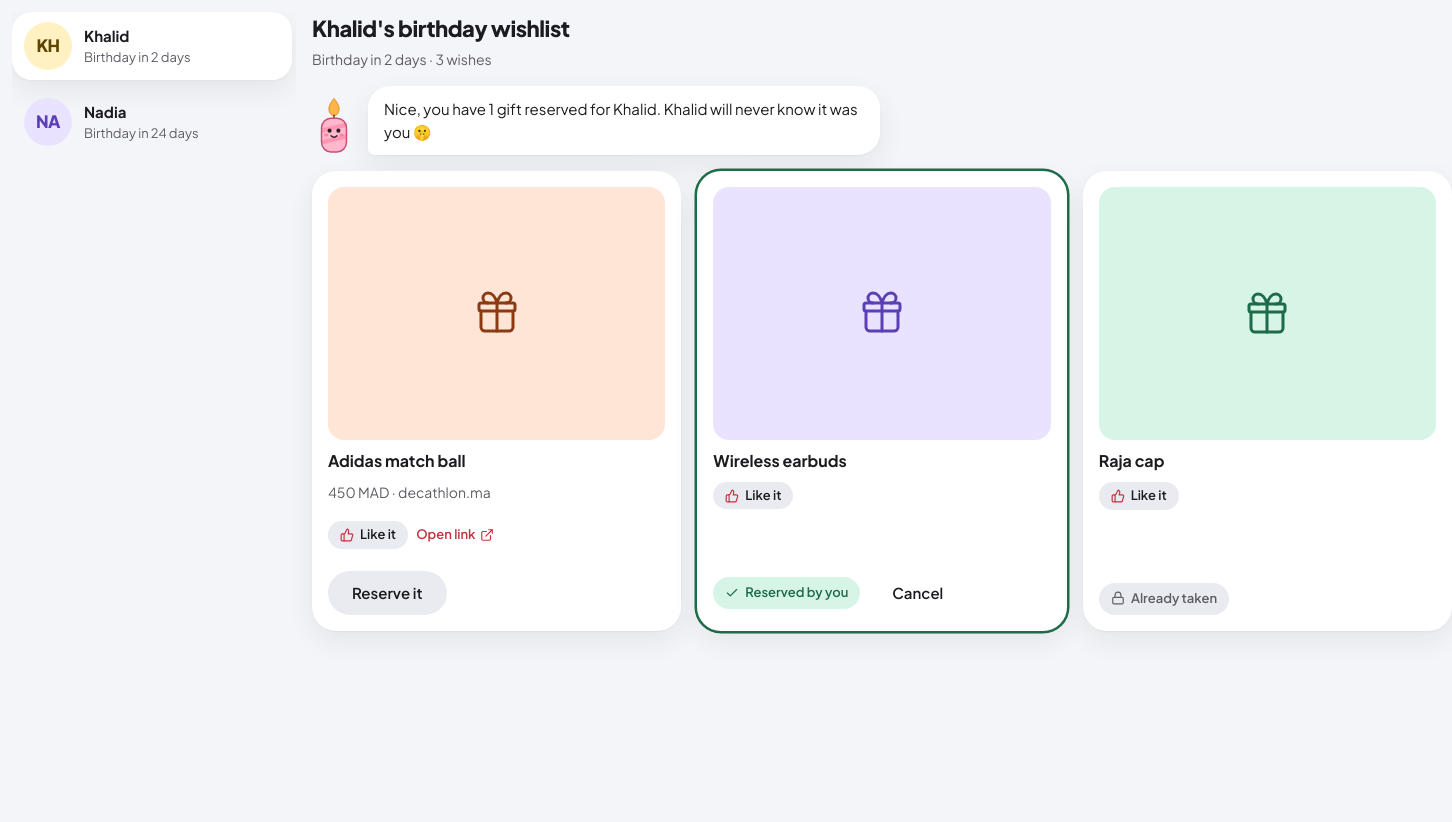
Test: Friends' wishlists › cancelling my reservation frees the wish
Step 1. Click the button with aria-label "Cancel my reservation: Wireless earbuds" → (918,593), box [868,571,967,615]
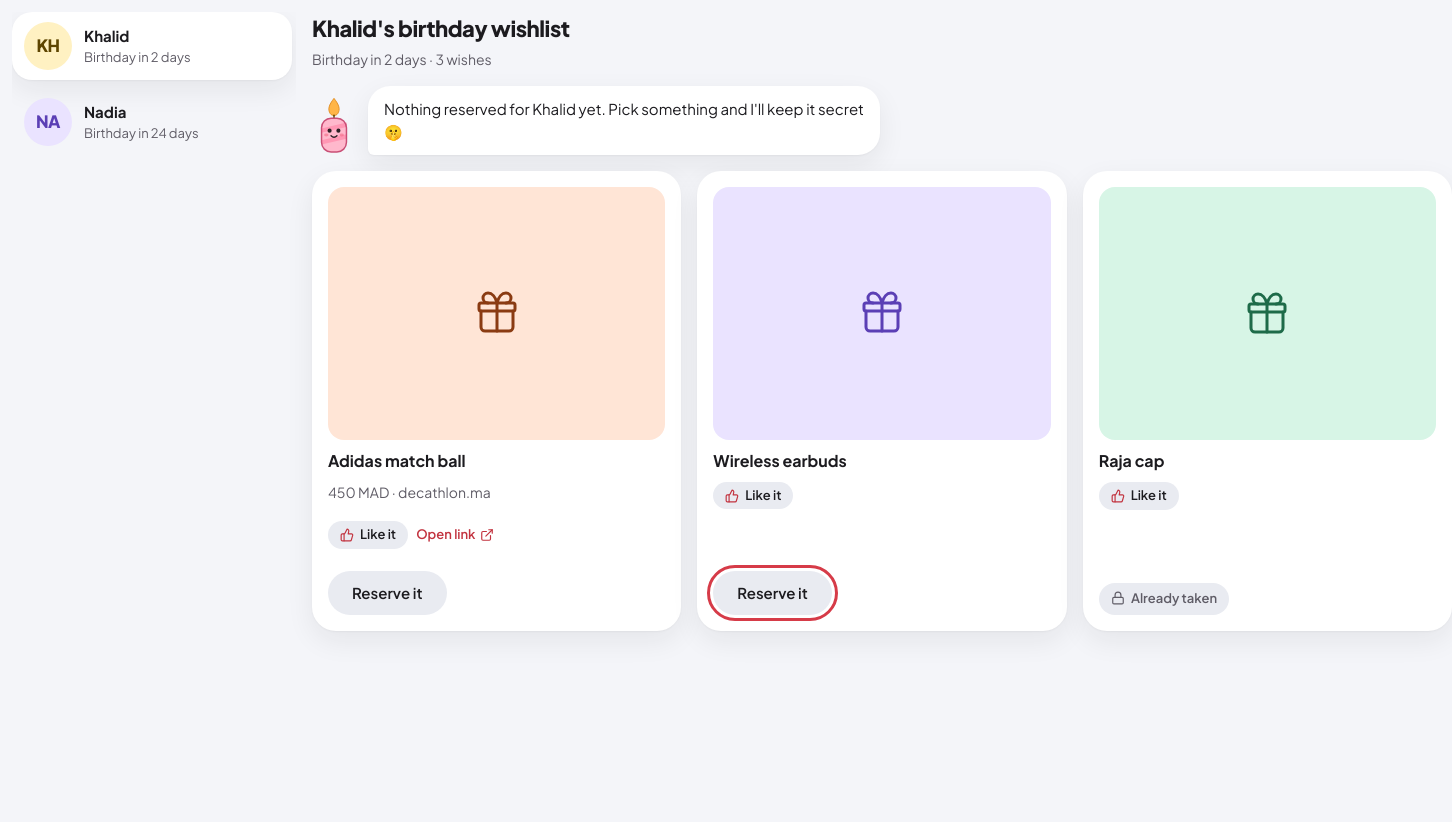
Result: the button "Reserve it" below "Wireless earbuds" is shown at [713,571,832,615]
